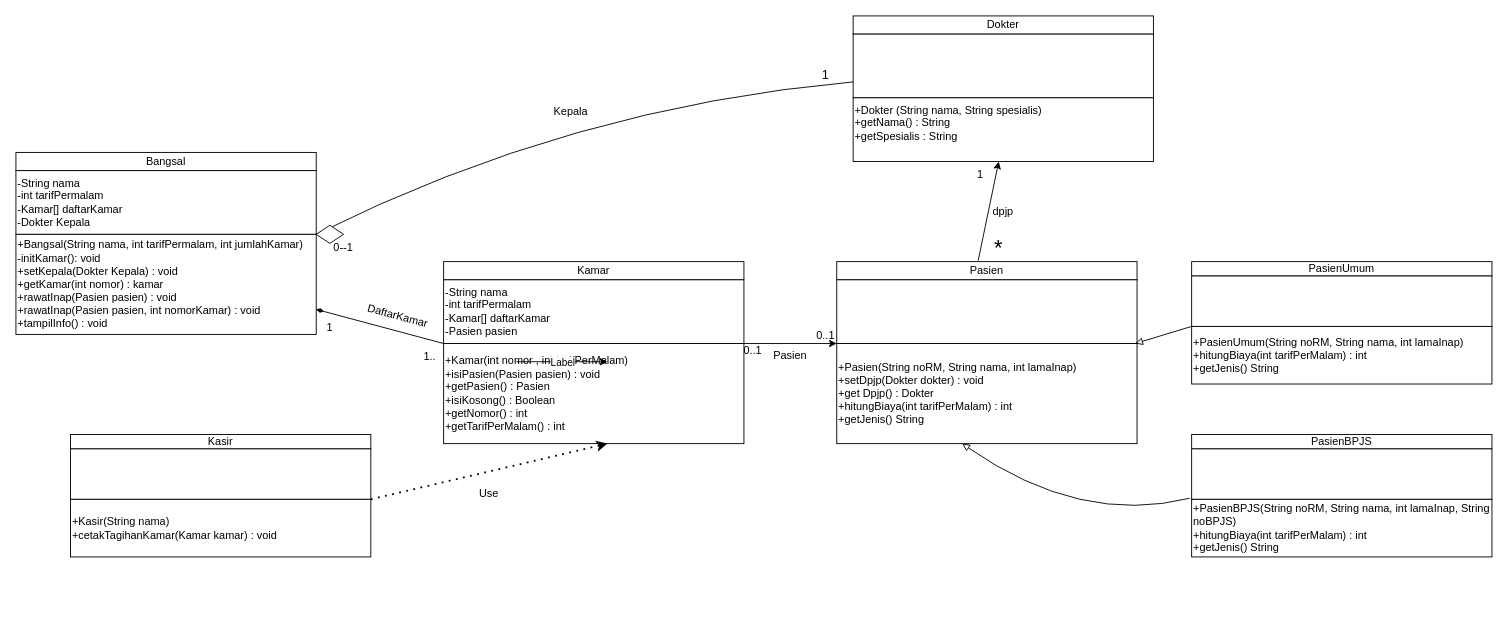
Image size: 1508x623. Some labels were removed from this diagram. The shapes that lost their labels are listed below. From the top down, each one's centre as x and y in pixels, then its label:
At (x=1002, y=65): "-String nama -String spesialis".
At (x=986, y=311): "#String noRM #String nama #int lamaInap -Dokter dpjp".
At (x=220, y=473): "-String nama".
At (x=1341, y=473): "-String noBPJS".
